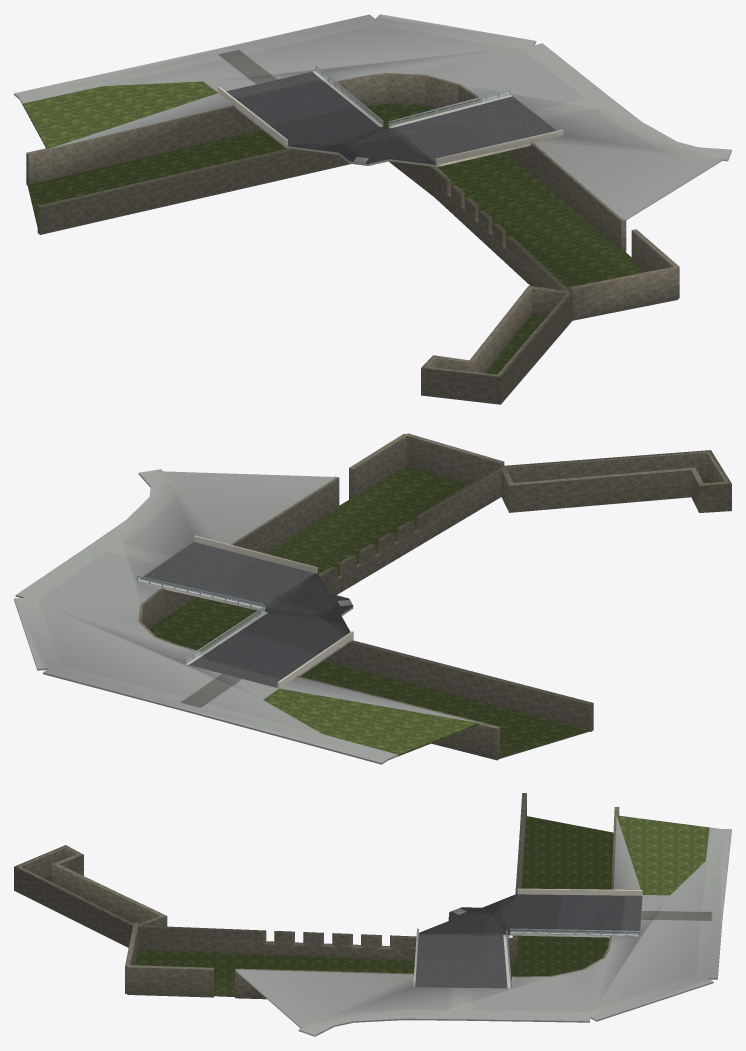
Rendered from site.glb.
3 views of the same model, one above another, from view 1: azimuth 30°, elevation 25°; view 2: azimuth 150°, elevation 25°; view 3: azimuth 270°, elevation 25° (orthographic). The views are drawn at different scales.
Visible parts, largest first — view 1: R35_WALL_51946353_00_0, R38_PARK_APPROACH_GROUND, R35_MOAT_GROUND, R34_APPROACH_CONTINUOUS_DECK, R34_STONE_PARAPET_759554469, R58_POST_759554470_01; view 2: R38_PARK_APPROACH_GROUND, R35_WALL_51946353_00_0, R35_MOAT_GROUND, R34_APPROACH_CONTINUOUS_DECK, R34_STONE_PARAPET_759554469, R58_POST_759554470_01, R58_GLASS_759554470_00; view 3: R38_PARK_APPROACH_GROUND, R35_MOAT_GROUND, R35_WALL_51946353_00_0, R34_APPROACH_CONTINUOUS_DECK, R34_STONE_PARAPET_759554469, R58_POST_759554470_01.
Boxes of the visible parts, x1,y1,x2,y2 form: R35_WALL_51946353_00_0: (26,73,679,404); R38_PARK_APPROACH_GROUND: (14,14,731,219); R35_MOAT_GROUND: (22,81,644,374); R34_APPROACH_CONTINUOUS_DECK: (226,71,556,167); R34_STONE_PARAPET_759554469: (218,87,563,164); R58_POST_759554470_01: (315,65,511,126); R38_PARK_APPROACH_GROUND: (14,469,475,764); R35_WALL_51946353_00_0: (138,433,731,760); R35_MOAT_GROUND: (149,465,709,758); R34_APPROACH_CONTINUOUS_DECK: (138,542,353,687); R34_STONE_PARAPET_759554469: (193,535,353,688); R58_POST_759554470_01: (136,575,265,663); R58_GLASS_759554470_00: (138,578,264,662); R38_PARK_APPROACH_GROUND: (235,816,731,1036); R35_MOAT_GROUND: (45,815,709,996); R35_WALL_51946353_00_0: (14,793,619,999); R34_APPROACH_CONTINUOUS_DECK: (415,893,642,988); R34_STONE_PARAPET_759554469: (413,888,642,987); R58_POST_759554470_01: (506,928,639,987).
Bounding box in the file's own units: 110 × 6.83 × 135.
Materials: 14 (6 with a texture image).
